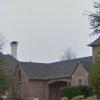Chimney: (7, 38, 25, 59)
